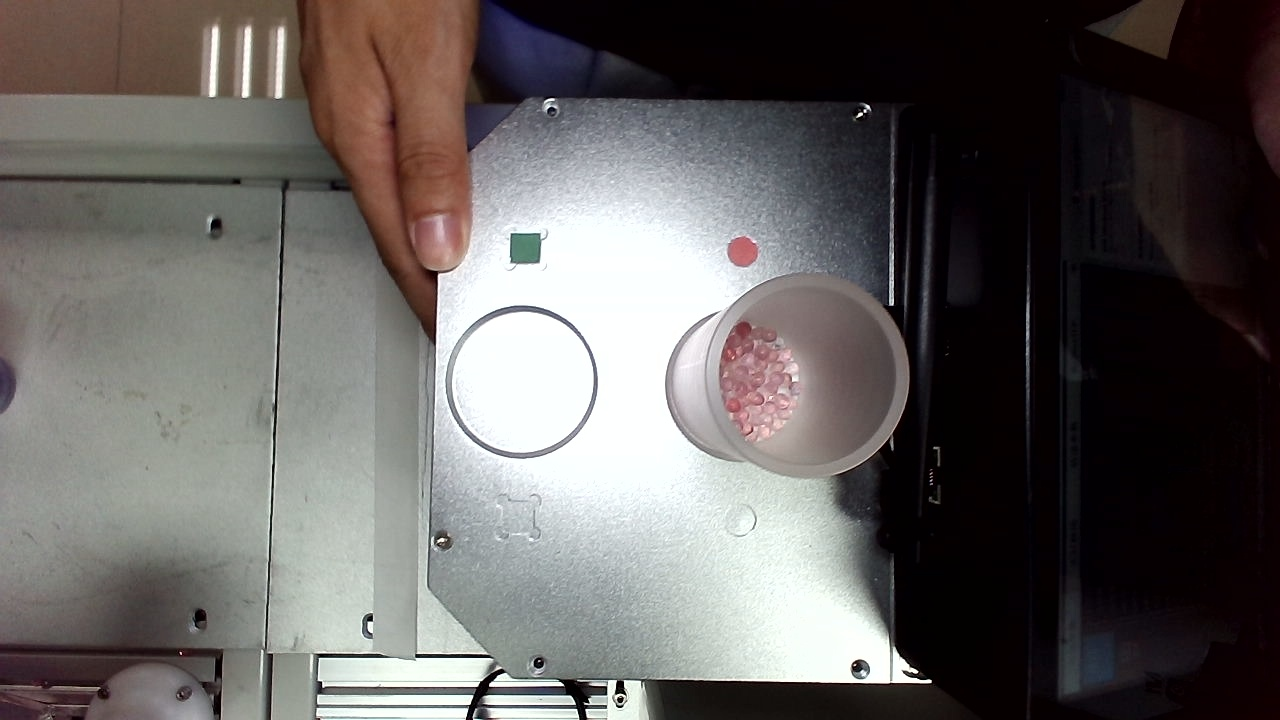bad: (769, 600, 816, 647), (738, 3, 786, 49), (254, 88, 302, 133), (282, 586, 327, 634), (258, 164, 301, 205), (706, 617, 747, 658), (692, 75, 733, 116), (836, 154, 876, 194), (285, 27, 325, 66), (540, 427, 576, 469), (807, 374, 846, 412), (358, 91, 397, 129), (395, 169, 432, 209), (840, 48, 875, 89), (677, 231, 714, 269), (409, 239, 451, 272), (845, 497, 884, 532), (839, 368, 875, 404), (727, 222, 761, 259), (764, 516, 798, 549)
defact: (717, 112, 743, 151)
pass: (640, 124, 680, 173), (465, 498, 508, 542), (628, 577, 669, 623), (830, 441, 870, 488), (370, 460, 410, 504), (811, 204, 848, 248), (682, 594, 720, 636), (742, 633, 780, 675), (587, 258, 625, 299), (449, 607, 484, 651), (834, 89, 872, 129), (540, 302, 578, 340), (532, 12, 570, 50), (780, 263, 817, 302), (802, 74, 841, 111), (662, 625, 698, 662), (556, 35, 590, 73), (529, 50, 560, 86)
toolong: (727, 393, 792, 443), (287, 139, 331, 201), (655, 548, 696, 608)
unpass: (267, 428, 313, 473), (838, 264, 879, 314), (468, 564, 506, 614), (839, 1, 875, 53), (370, 316, 410, 358), (582, 417, 621, 457), (805, 512, 842, 552), (502, 30, 539, 70), (401, 284, 439, 322), (734, 188, 771, 227), (852, 530, 889, 569), (322, 39, 359, 77), (272, 202, 311, 238), (513, 338, 548, 378), (565, 4, 600, 43), (793, 568, 827, 604), (766, 549, 800, 583)
